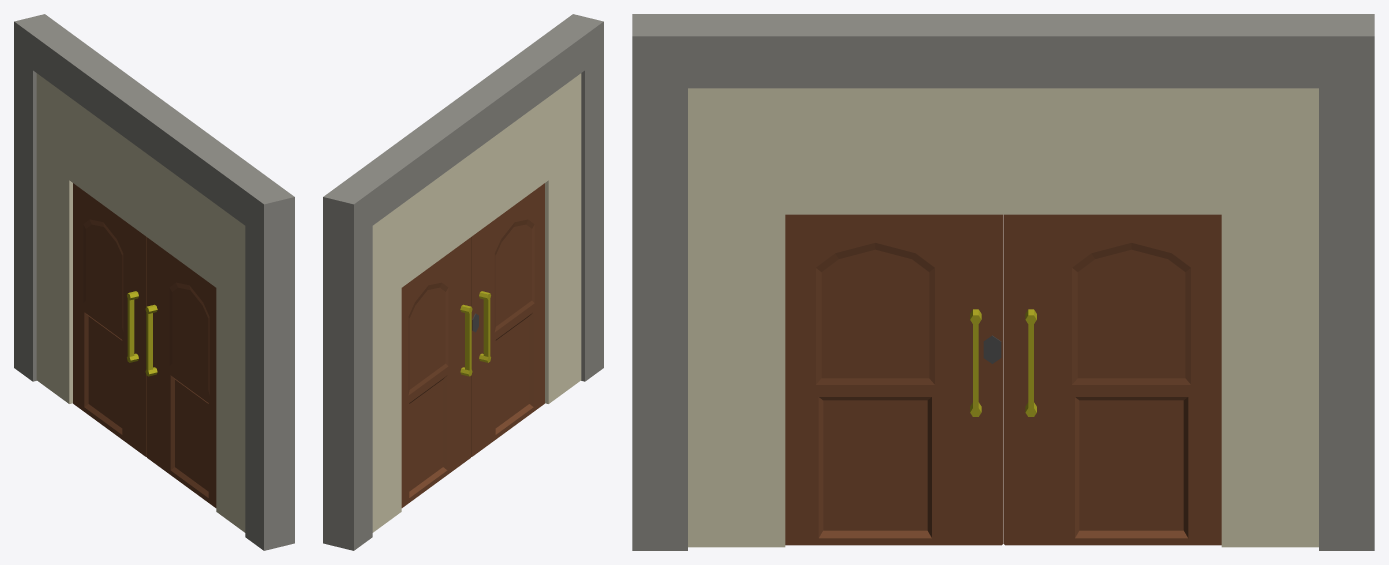
Rendered from Door01_house2.obj.
3 renders of one model, left to right at view 1: azimuth 30°, elevation 25°; view 2: azimuth 150°, elevation 25°; view 3: azimuth 270°, elevation 25°, orthographic. The views are drawn at different scales.
Parts seen in each view (by area): view 1: Door1_House2_Cube; view 2: Door1_House2_Cube; view 3: Door1_House2_Cube.
Part boxes in pixels (box(x1,y1,x2,y2)): Door1_House2_Cube: box(14, 14, 294, 550); Door1_House2_Cube: box(323, 14, 603, 550); Door1_House2_Cube: box(632, 14, 1374, 550).
Bounding box in the file's own units: 0.366 × 3.68 × 4.81.
